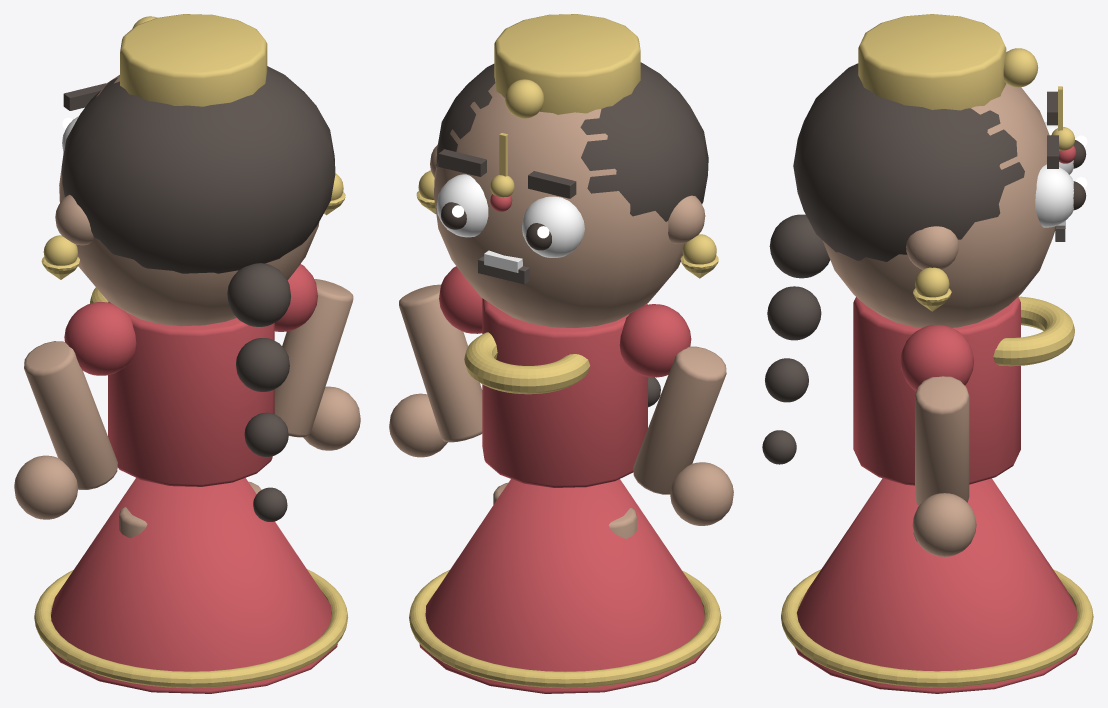
The model's file is princess.glb.
3 renders of one model, left to right at view 1: azimuth 30°, elevation 25°; view 2: azimuth 150°, elevation 25°; view 3: azimuth 270°, elevation 25°, orthographic.
Visible parts, largest first — view 1: GEO-princess-hair, GEO-princess-saree, GEO-princess-torso, GEO-princess-crown, GEO-princess-head, GEO-princess-arm, GEO-princess-hem, GEO-princess-arm.001, GEO-princess-shoulder, GEO-princess-braid, GEO-princess-hand, GEO-princess-hand.001 (+8 smaller); view 2: GEO-princess-saree, GEO-princess-head, GEO-princess-torso, GEO-princess-hair, GEO-princess-crown, GEO-princess-arm, GEO-princess-arm.001, GEO-princess-hem, GEO-princess-necklace, GEO-princess-shoulder, GEO-princess-hand, GEO-princess-hand.001 (+11 smaller); view 3: GEO-princess-saree, GEO-princess-hair, GEO-princess-head, GEO-princess-torso, GEO-princess-crown, GEO-princess-hem, GEO-princess-arm.001, GEO-princess-shoulder.001, GEO-princess-necklace, GEO-princess-hand.001, GEO-princess-braid, GEO-princess-braid.001 (+6 smaller).
Part boxes in pixels (x1,y1,x2,y2): GEO-princess-hair: (61, 66, 335, 273); GEO-princess-saree: (48, 478, 337, 693); GEO-princess-torso: (108, 301, 274, 486); GEO-princess-crown: (120, 14, 267, 106); GEO-princess-head: (59, 75, 319, 326); GEO-princess-arm: (24, 341, 117, 489); GEO-princess-hem: (34, 569, 348, 688); GEO-princess-arm.001: (274, 279, 353, 437); GEO-princess-shoulder: (64, 302, 136, 375); GEO-princess-braid: (227, 263, 290, 326); GEO-princess-hand: (14, 455, 77, 519); GEO-princess-hand.001: (303, 386, 360, 450); GEO-princess-saree: (419, 479, 707, 693); GEO-princess-head: (434, 83, 684, 327); GEO-princess-torso: (482, 298, 647, 487); GEO-princess-hair: (436, 62, 708, 221); GEO-princess-crown: (494, 14, 640, 114); GEO-princess-arm: (633, 346, 726, 494); GEO-princess-arm.001: (399, 284, 482, 442); GEO-princess-hem: (409, 570, 721, 688); GEO-princess-necklace: (464, 332, 590, 394); GEO-princess-shoulder: (619, 304, 691, 377); GEO-princess-hand: (670, 462, 733, 525); GEO-princess-hand.001: (389, 393, 447, 457); GEO-princess-saree: (794, 478, 1079, 693); GEO-princess-hair: (793, 63, 1024, 261); GEO-princess-head: (822, 83, 1055, 327); GEO-princess-torso: (853, 297, 1020, 485); GEO-princess-crown: (858, 14, 1006, 110); GEO-princess-hem: (781, 569, 1093, 687); GEO-princess-arm.001: (915, 376, 969, 506); GEO-princess-shoulder.001: (900, 325, 973, 391); GEO-princess-necklace: (993, 296, 1074, 366); GEO-princess-hand.001: (912, 493, 976, 556); GEO-princess-braid: (769, 214, 830, 278); GEO-princess-braid.001: (767, 286, 821, 340).
Bounding box in the file's own units: 1.58 × 2.63 × 1.35.
